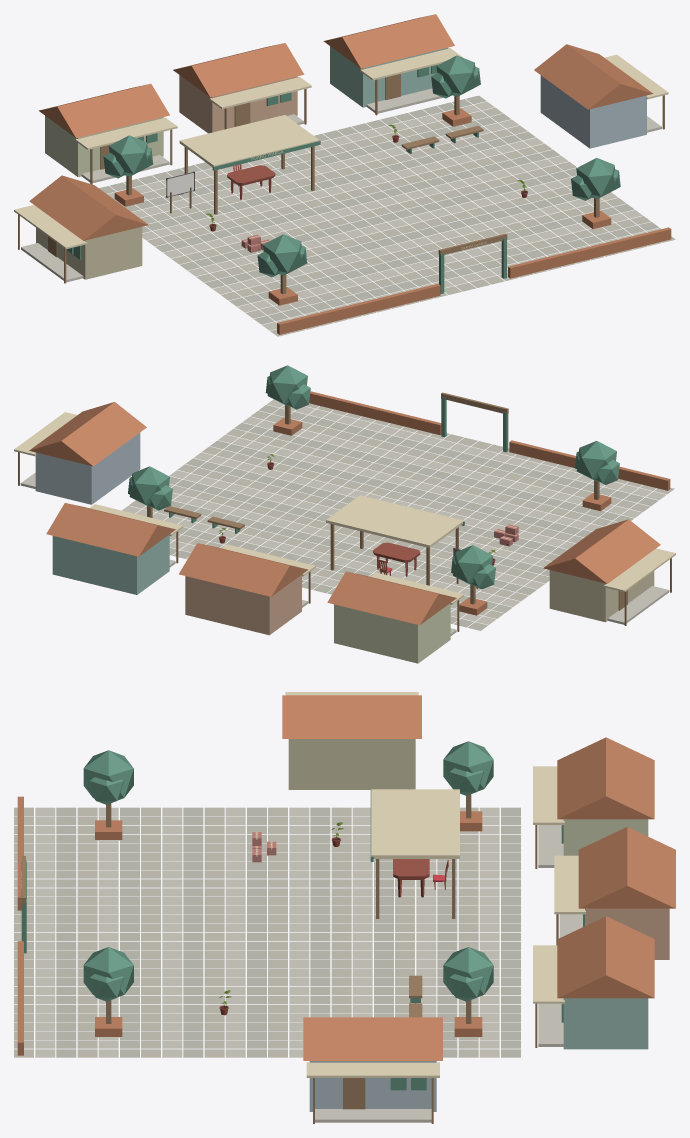
Rendered from PoskoP02.fbx.
The picture shows the model from 3 angles, top to bottom: view 1: azimuth 30°, elevation 25°; view 2: azimuth 150°, elevation 25°; view 3: azimuth 270°, elevation 25°; orthographic projection. The views are drawn at different scales.
Visible parts, largest first — view 1: P02_Community_Paving, P02_Neighborhood_House_4, P02_Tiled_Roof.004, P02_Tiled_Roof.003, P02_Tiled_Roof.002, P02_Tiled_Roof.001, P02_Tiled_Roof, P02_Shelter_Roof, P02_Neighborhood_House_3, P02_Neighborhood_House_1, P02_Neighborhood_House_2, P02_Neighborhood_House_0 (+18 smaller); view 2: P02_Community_Paving, P02_Neighborhood_House_2, P02_Neighborhood_House_0, P02_Neighborhood_House_1, P02_Neighborhood_House_4, P02_Tiled_Roof.003, P02_Tiled_Roof.004, P02_Shelter_Roof, P02_Tiled_Roof.002, P02_Tiled_Roof, P02_Tiled_Roof.001, P02_Neighborhood_House_3 (+14 smaller); view 3: P02_Community_Paving, P02_Tiled_Roof.002, P02_Tiled_Roof, P02_Tiled_Roof.001, P02_Neighborhood_House_3, P02_Shelter_Roof, P02_Tiled_Roof.003, P02_Tiled_Roof.004, P02_Neighborhood_House_2, P02_Neighborhood_House_4, P02_Front_Awning.004, P02_Neighborhood_House_1 (+19 smaller).
Part boxes in pixels (bbox=[...]): P02_Community_Paving: bbox=[99, 95, 675, 336]; P02_Neighborhood_House_4: bbox=[540, 75, 646, 148]; P02_Tiled_Roof.004: bbox=[534, 44, 653, 109]; P02_Tiled_Roof.003: bbox=[29, 175, 148, 240]; P02_Tiled_Roof.002: bbox=[323, 14, 454, 68]; P02_Tiled_Roof.001: bbox=[173, 43, 304, 97]; P02_Tiled_Roof: bbox=[39, 84, 169, 138]; P02_Shelter_Roof: bbox=[179, 115, 319, 166]; P02_Neighborhood_House_3: bbox=[36, 226, 142, 279]; P02_Neighborhood_House_1: bbox=[179, 75, 297, 133]; P02_Neighborhood_House_2: bbox=[330, 46, 448, 107]; P02_Neighborhood_House_0: bbox=[45, 116, 163, 176]; P02_Community_Paving: bbox=[122, 399, 674, 630]; P02_Neighborhood_House_2: bbox=[52, 535, 169, 594]; P02_Neighborhood_House_0: bbox=[334, 603, 450, 663]; P02_Neighborhood_House_1: bbox=[185, 575, 301, 635]; P02_Neighborhood_House_4: bbox=[35, 432, 140, 504]; P02_Tiled_Roof.003: bbox=[543, 519, 660, 583]; P02_Tiled_Roof.004: bbox=[29, 402, 146, 466]; P02_Shelter_Roof: bbox=[326, 495, 463, 547]; P02_Tiled_Roof.002: bbox=[46, 503, 175, 556]; P02_Tiled_Roof: bbox=[327, 571, 456, 625]; P02_Tiled_Roof.001: bbox=[179, 543, 307, 596]; P02_Neighborhood_House_3: bbox=[549, 570, 654, 622]; P02_Community_Paving: bbox=[14, 807, 520, 1057]; P02_Tiled_Roof.002: bbox=[557, 916, 654, 998]; P02_Tiled_Roof: bbox=[557, 737, 654, 819]; P02_Tiled_Roof.001: bbox=[578, 827, 675, 908]; P02_Neighborhood_House_3: bbox=[288, 739, 415, 789]; P02_Shelter_Roof: bbox=[371, 789, 459, 858]; P02_Tiled_Roof.003: bbox=[282, 695, 421, 738]; P02_Tiled_Roof.004: bbox=[303, 1017, 442, 1060]; P02_Neighborhood_House_2: bbox=[563, 998, 648, 1049]; P02_Neighborhood_House_4: bbox=[309, 1061, 436, 1111]; P02_Front_Awning.004: bbox=[306, 1062, 439, 1077]; P02_Neighborhood_House_1: bbox=[585, 908, 669, 959].
Bounding box in the file's own units: 4290 × 440 × 3128.
